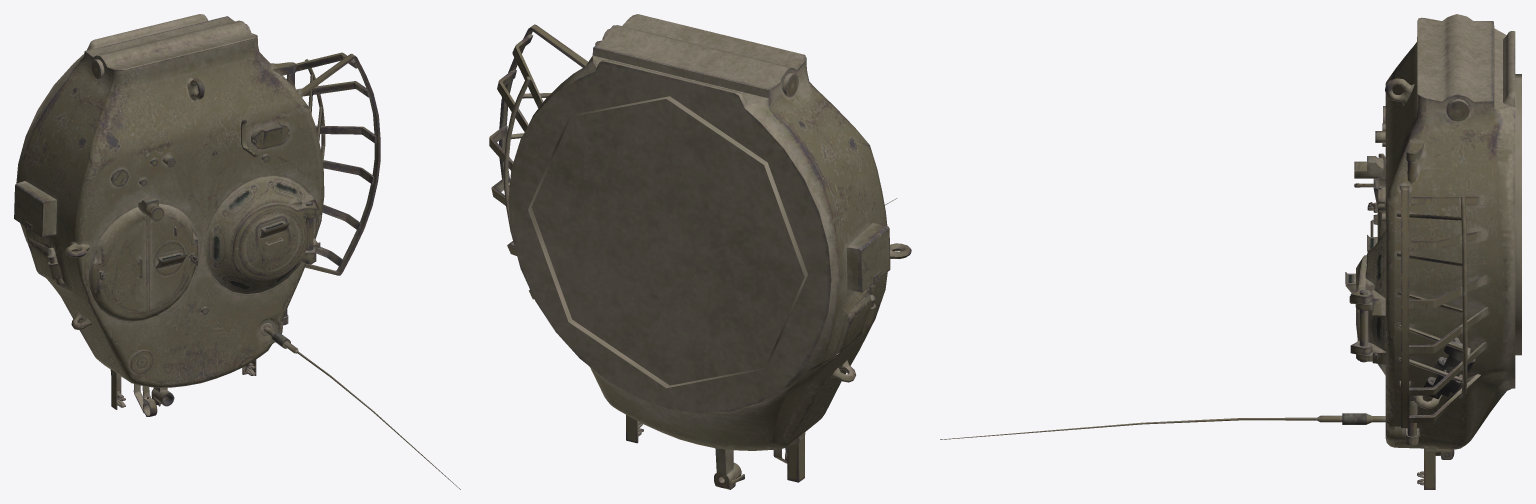
Rendered from Turret_01.glb.
3 views of the same model, side by side, from view 1: azimuth 30°, elevation 25°; view 2: azimuth 150°, elevation 25°; view 3: azimuth 270°, elevation 25° (orthographic). The views are drawn at different scales.
Parts seen in each view (by area): view 1: set_0_group_0; view 2: set_0_group_0; view 3: set_0_group_0.
Boxes of the visible parts, bbox=[...] form: set_0_group_0: bbox=[14, 14, 460, 489]; set_0_group_0: bbox=[489, 14, 911, 489]; set_0_group_0: bbox=[940, 14, 1521, 489].
Bounding box in the file's own units: 2.6 × 2.7 × 3.46.
1 material, 1 textured.
